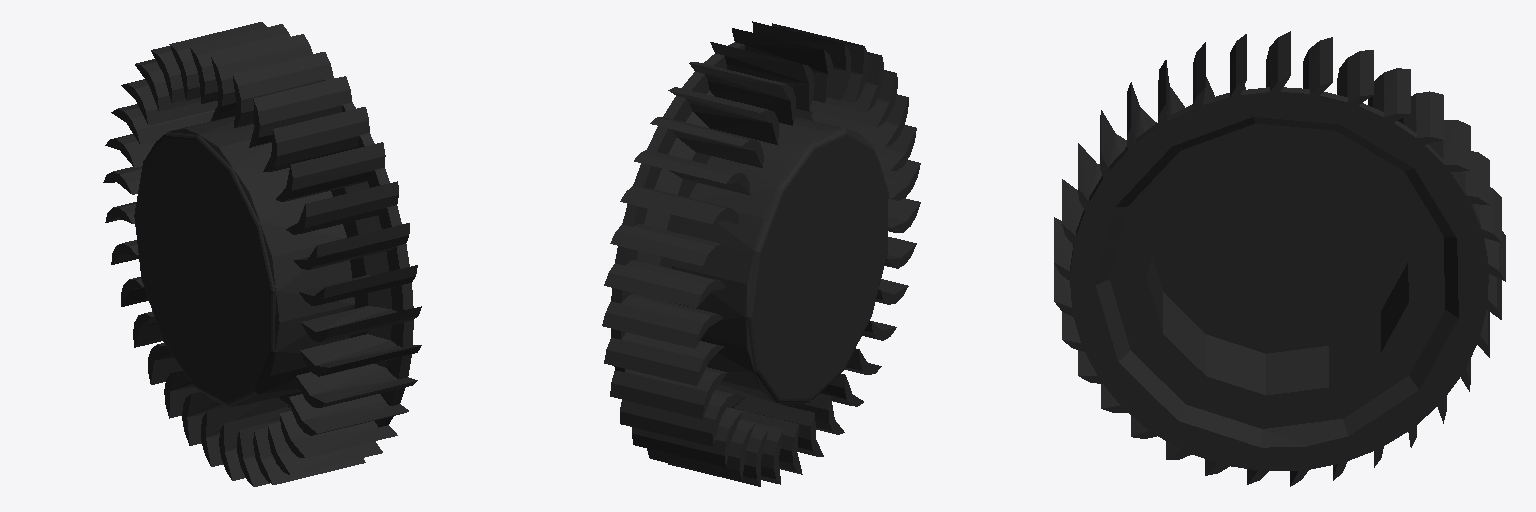
File: Mini_PFan.obj
3 views of the same model, side by side, from view 1: azimuth 30°, elevation 25°; view 2: azimuth 150°, elevation 25°; view 3: azimuth 270°, elevation 25° (orthographic).
Parts seen in each view (by area): view 1: Prusa_Mini; view 2: Prusa_Mini; view 3: Prusa_Mini.
Boxes of the visible parts, x1=… form: Prusa_Mini: x1=103, y1=22, x2=421, y2=486; Prusa_Mini: x1=602, y1=21, x2=920, y2=486; Prusa_Mini: x1=1054, y1=31, x2=1505, y2=486.
Bounding box in the file's own units: 10.5 × 38.96 × 38.91.